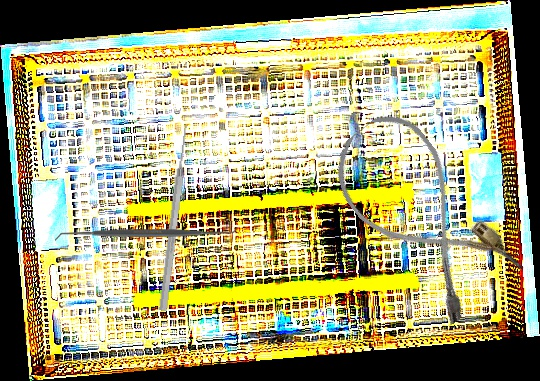Cannula: (317, 100, 527, 330)
Pusher: (157, 124, 192, 312)
Spatula Surgical: (55, 223, 237, 244)
